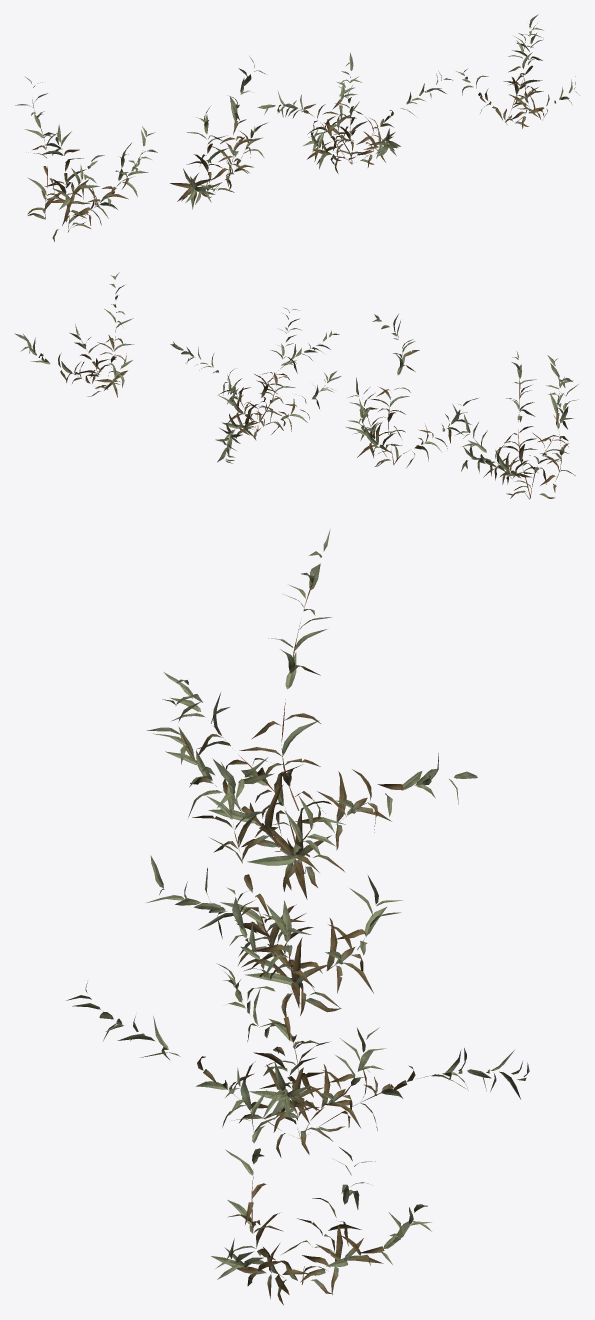
The model's file is shrub_02.glb.
3 renders of one model, top to bottom at view 1: azimuth 30°, elevation 25°; view 2: azimuth 150°, elevation 25°; view 3: azimuth 270°, elevation 25°, orthographic. The views are drawn at different scales.
Parts seen in each view (by area): view 1: shrub_02_a; view 2: shrub_02_a; view 3: shrub_02_a.
Part boxes in pixels (box(x1,y1,x2,y2)): shrub_02_a: box(15, 14, 579, 241); shrub_02_a: box(14, 272, 578, 499); shrub_02_a: box(66, 529, 529, 1305).
Size of the model in its own units: 6.05 by 1.7 by 2.28.
1 material, 1 textured.
